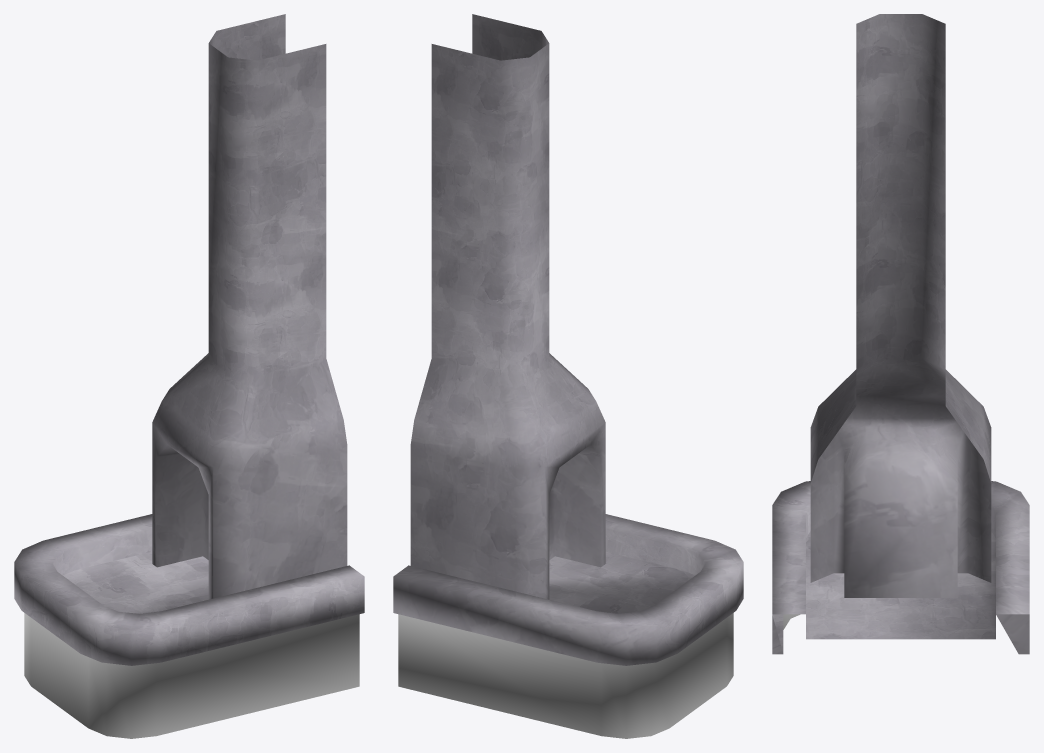
Rendered from Smithy Cimey.fbx.
3 renders of one model, left to right at view 1: azimuth 30°, elevation 25°; view 2: azimuth 150°, elevation 25°; view 3: azimuth 270°, elevation 25°, orthographic. The views are drawn at different scales.
Parts seen in each view (by area): view 1: Smithy Cimey; view 2: Smithy Cimey; view 3: Smithy Cimey.
Part boxes in pixels (left/top/right/bottom): Smithy Cimey: left=14, top=14, right=364, bottom=738; Smithy Cimey: left=393, top=14, right=743, bottom=738; Smithy Cimey: left=772, top=14, right=1029, bottom=654.
Size of the model in its own units: 2.07 by 4.8 by 1.65.
